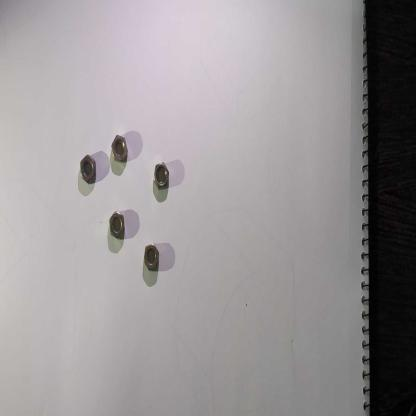NUTS: (111, 132, 130, 170), (79, 151, 97, 188), (108, 209, 126, 241), (151, 160, 170, 190), (143, 242, 160, 274)
